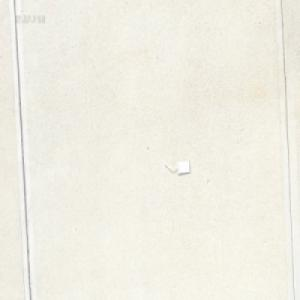LuggageTag: (164, 158, 190, 174)
